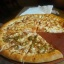pizza: (1, 16, 64, 61)
